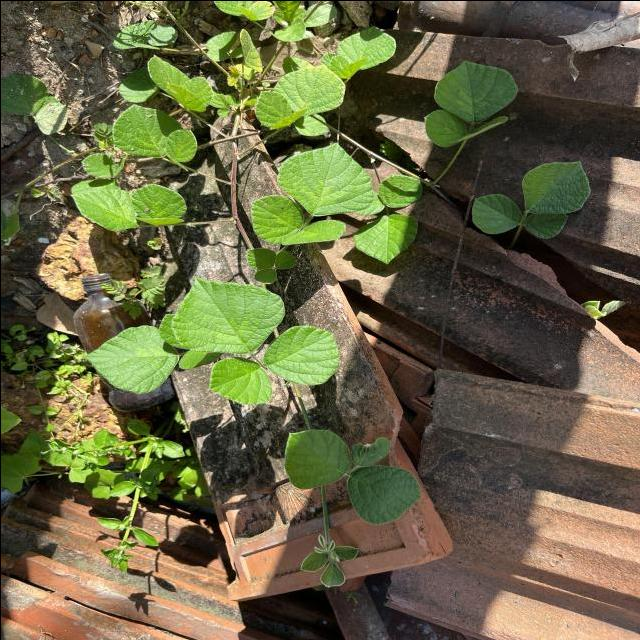Pseudarthria viscida: (157, 274, 340, 406), (282, 427, 423, 525), (248, 140, 374, 247), (469, 159, 592, 239), (422, 59, 519, 148)
